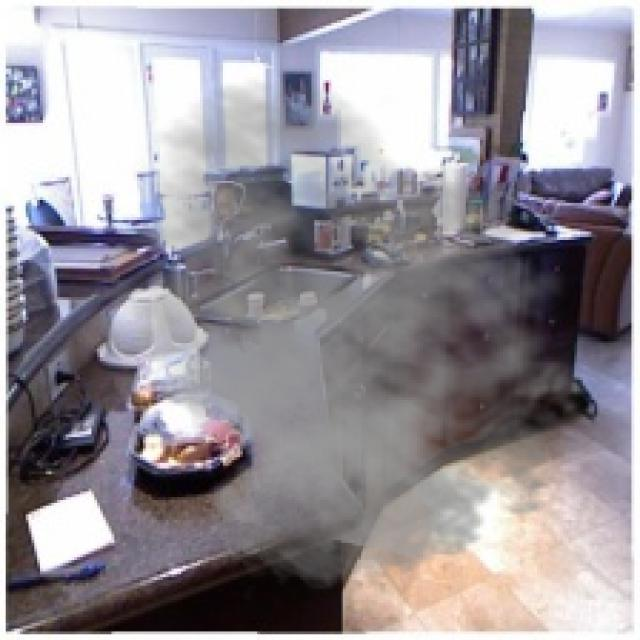Smoke: (80, 77, 606, 597)
